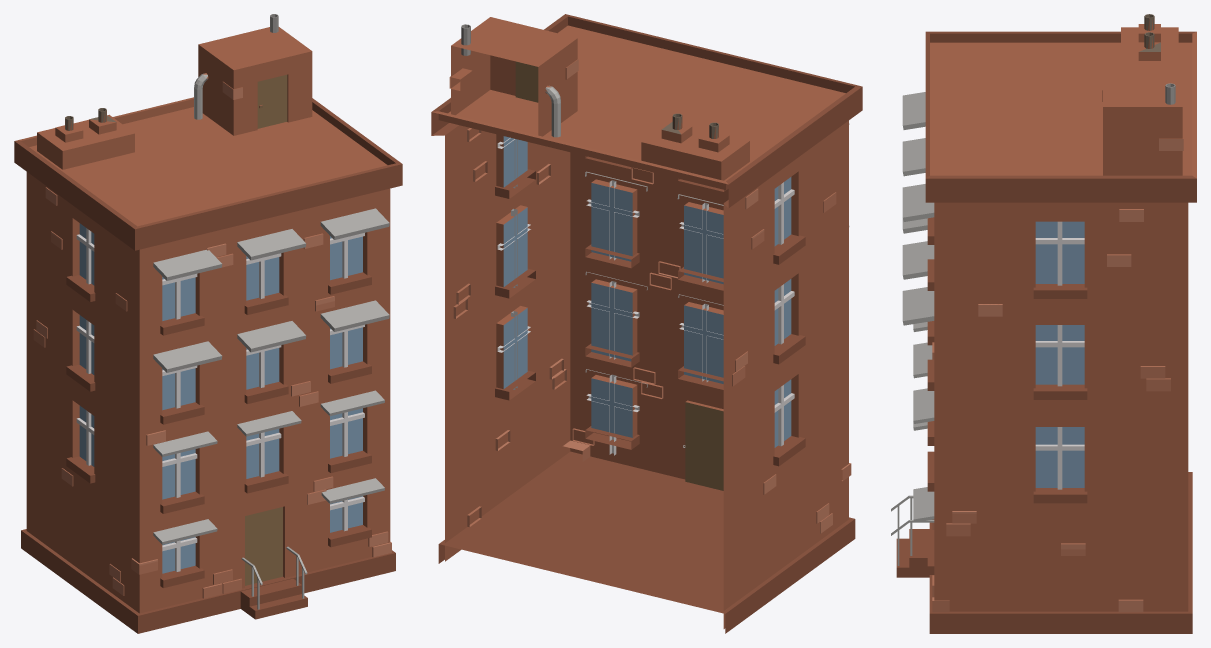
File: LP_House_3.fbx
3 renders of one model, left to right at view 1: azimuth 30°, elevation 25°; view 2: azimuth 150°, elevation 25°; view 3: azimuth 270°, elevation 25°, orthographic. The views are drawn at different scales.
Visible parts, largest first — view 1: Cube, Cube.015, Cube.001, Cube.013, Cube.019, Cube.041, Cube.014, House_01.003; view 2: Cube, Cube.001, Cube.019, Cube.041, Cube.014, Cube.013; view 3: Cube, Cube.001, Cube.015, Cube.041, Cube.014, Cube.019, Cube.013, House_01.003.
Part boxes in pixels (x1,y1,x2,y2): Cube: [14, 14, 402, 613]; Cube.015: [153, 208, 389, 544]; Cube.001: [21, 529, 395, 633]; Cube.013: [160, 272, 371, 588]; Cube.019: [76, 228, 364, 571]; Cube.041: [33, 187, 391, 598]; Cube.014: [66, 275, 95, 483]; House_01.003: [241, 546, 307, 609]; Cube: [431, 14, 862, 628]; Cube.001: [438, 451, 855, 633]; Cube.019: [497, 137, 794, 455]; Cube.041: [453, 128, 851, 533]; Cube.014: [495, 169, 805, 466]; Cube.013: [585, 156, 728, 449]; Cube: [925, 14, 1196, 611]; Cube.001: [896, 472, 1192, 633]; Cube.015: [902, 92, 934, 522]; Cube.041: [932, 209, 1170, 612]; Cube.014: [1033, 284, 1087, 503]; Cube.019: [1035, 221, 1084, 489]; Cube.013: [927, 217, 934, 574]; House_01.003: [891, 495, 934, 565].
Bounding box in the file's own units: 726 × 1245 × 638.
